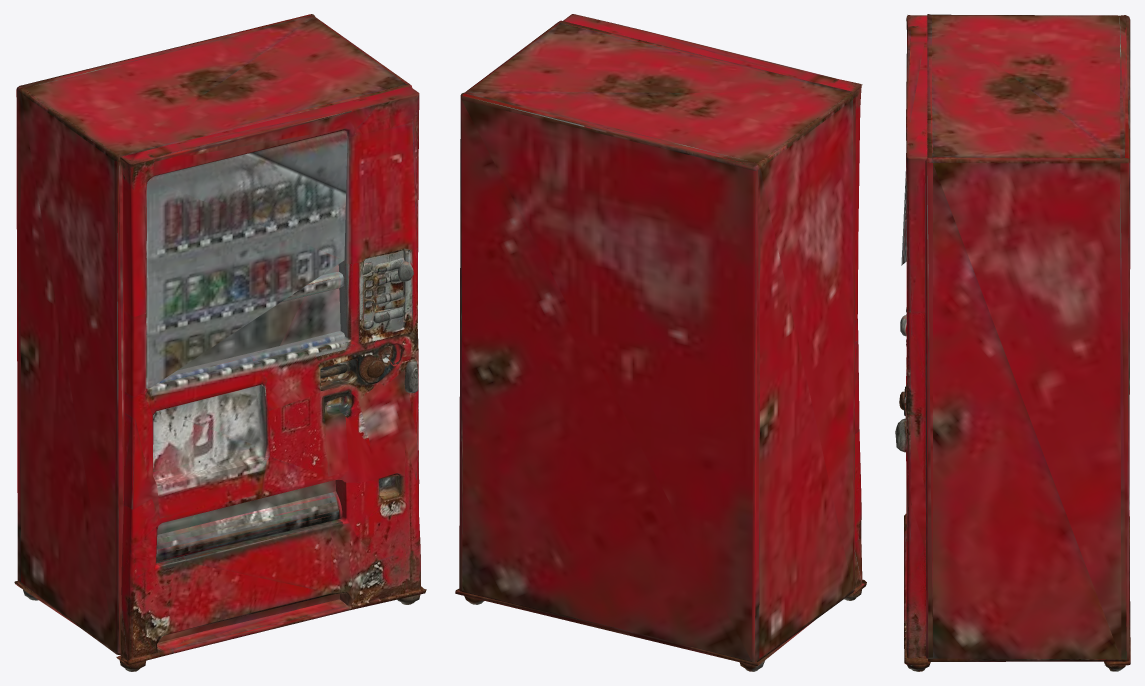
File: vending.glb
3 views of the same model, side by side, from view 1: azimuth 30°, elevation 25°; view 2: azimuth 150°, elevation 25°; view 3: azimuth 270°, elevation 25° (orthographic).
Bounding box in the file's own units: 0.6201 × 1 × 0.4144.
Materials: 1 (1 with a texture image).
